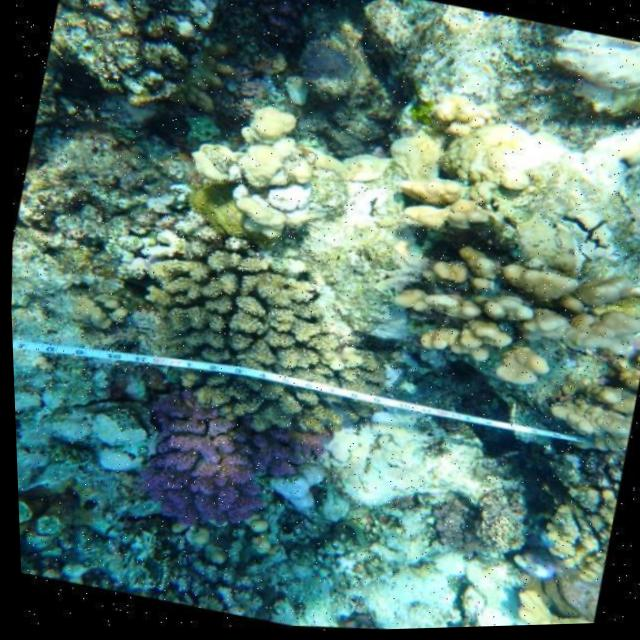Bleached Coral: (283, 393, 503, 576), (153, 81, 349, 254), (43, 394, 166, 486)
Healthy Coral: (156, 252, 349, 374), (146, 405, 293, 549)
